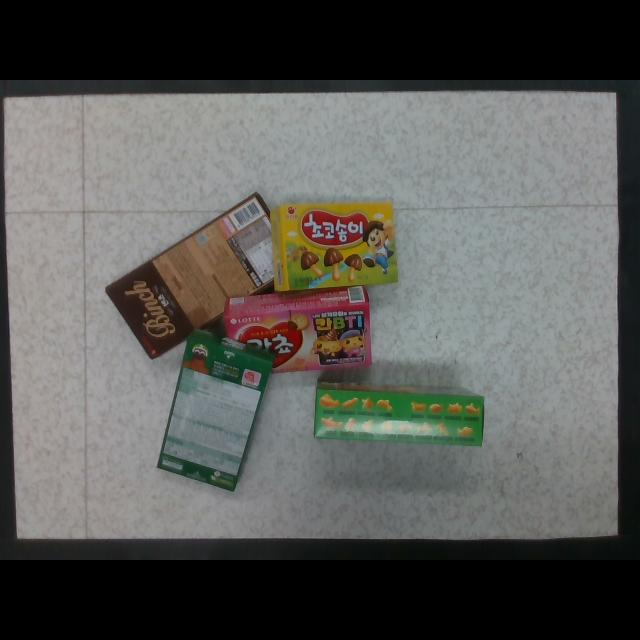box: (104, 193, 304, 361), (157, 330, 274, 492), (224, 283, 373, 375), (271, 203, 398, 290), (316, 384, 485, 446)
